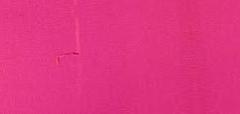snag: (55, 50, 80, 66)
